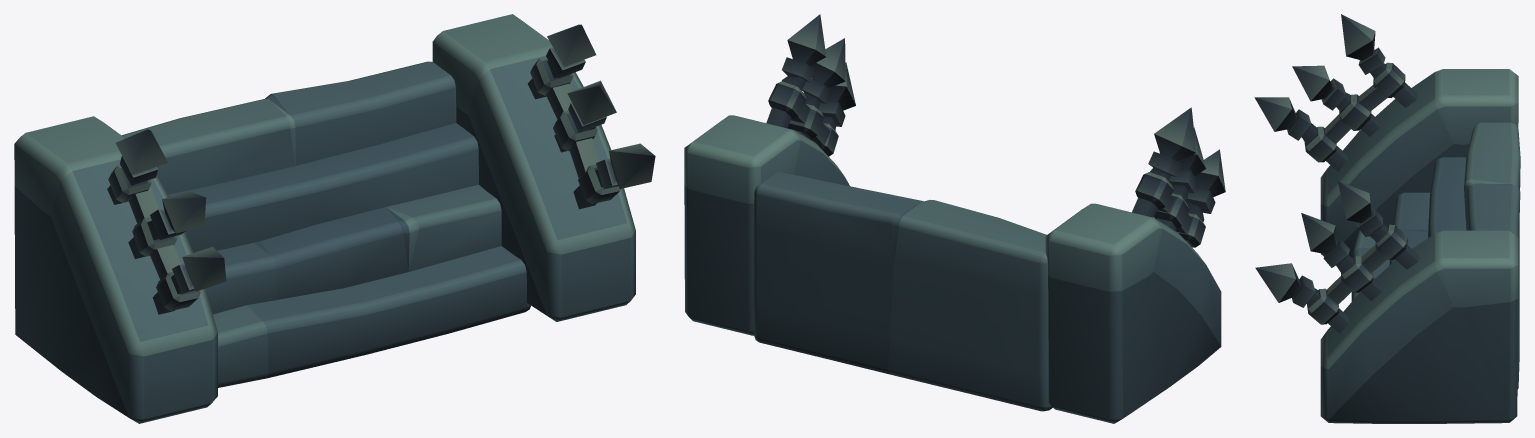
The model's file is stair_set_2.fbx.
3 renders of one model, left to right at view 1: azimuth 30°, elevation 25°; view 2: azimuth 150°, elevation 25°; view 3: azimuth 270°, elevation 25°, orthographic. The views are drawn at different scales.
Parts seen in each view (by area): view 1: stair_set_2; view 2: stair_set_2; view 3: stair_set_2.
Boxes of the visible parts, x1=… form: stair_set_2: x1=14, y1=14, x2=655, y2=423; stair_set_2: x1=684, y1=14, x2=1225, y2=423; stair_set_2: x1=1254, y1=14, x2=1520, y2=423.
Size of the model in its own units: 307 by 166 by 174.
